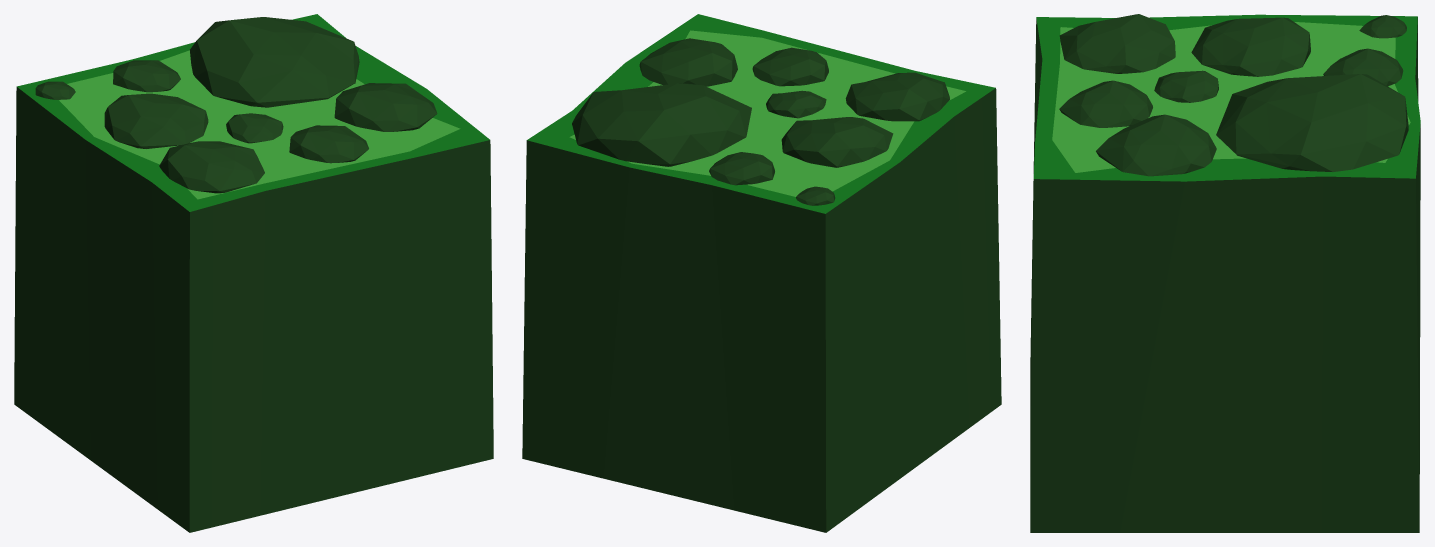
Rendered from TileRock_01.fbx.
3 views of the same model, side by side, from view 1: azimuth 30°, elevation 25°; view 2: azimuth 150°, elevation 25°; view 3: azimuth 270°, elevation 25° (orthographic). The views are drawn at different scales.
Parts seen in each view (by area): view 1: RockTile_01; view 2: RockTile_01; view 3: RockTile_01.
Boxes of the visible parts, box(x1,y1,x2,y2) form: RockTile_01: box(14, 14, 493, 532); RockTile_01: box(522, 14, 1001, 532); RockTile_01: box(1030, 14, 1420, 532).
Size of the model in its own units: 101 by 112 by 100.
